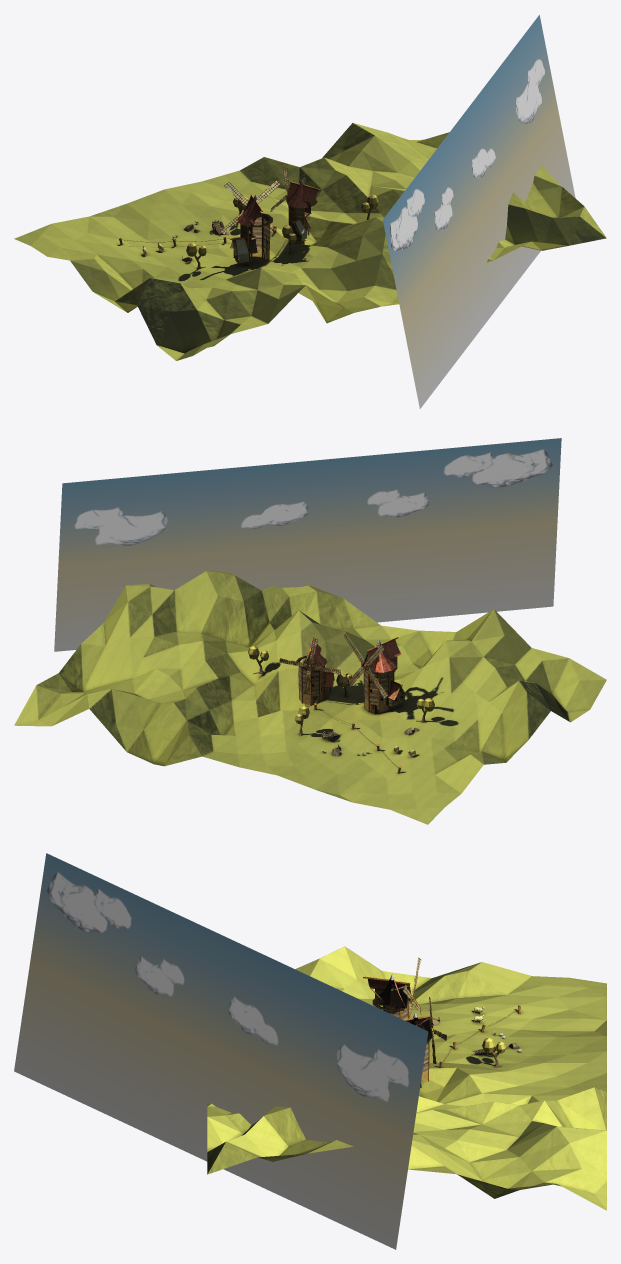
The model's file is Papercraft Windmills.obj.
3 renders of one model, top to bottom at view 1: azimuth 30°, elevation 25°; view 2: azimuth 150°, elevation 25°; view 3: azimuth 270°, elevation 25°, orthographic. The views are drawn at different scales.
Parts seen in each view (by area): view 1: Plane001, Plane002, NGon001, NGon002, trees, wing010; view 2: Plane001, Plane002, NGon001, NGon002, trees, wing010, wing011; view 3: Plane002, Plane001, NGon001, NGon002.
Part boxes in pixels (bbox=[...]): Plane001: bbox=[14, 123, 606, 360]; Plane002: bbox=[383, 15, 575, 408]; NGon001: bbox=[230, 194, 272, 265]; NGon002: bbox=[286, 180, 321, 244]; trees: bbox=[186, 195, 378, 268]; wing010: bbox=[220, 179, 280, 234]; Plane001: bbox=[14, 570, 606, 824]; Plane002: bbox=[54, 438, 561, 651]; NGon001: bbox=[361, 637, 407, 714]; NGon002: bbox=[296, 635, 334, 705]; trees: bbox=[248, 645, 434, 736]; wing010: bbox=[344, 634, 388, 698]; wing011: bbox=[279, 638, 340, 693]; Plane002: bbox=[14, 853, 428, 1249]; Plane001: bbox=[207, 946, 606, 1210]; NGon001: bbox=[363, 974, 411, 1019]; NGon002: bbox=[403, 1012, 433, 1084].
Bounding box in the file's own units: 4006 × 1543 × 3937.
Materials: 11 (11 with a texture image).
